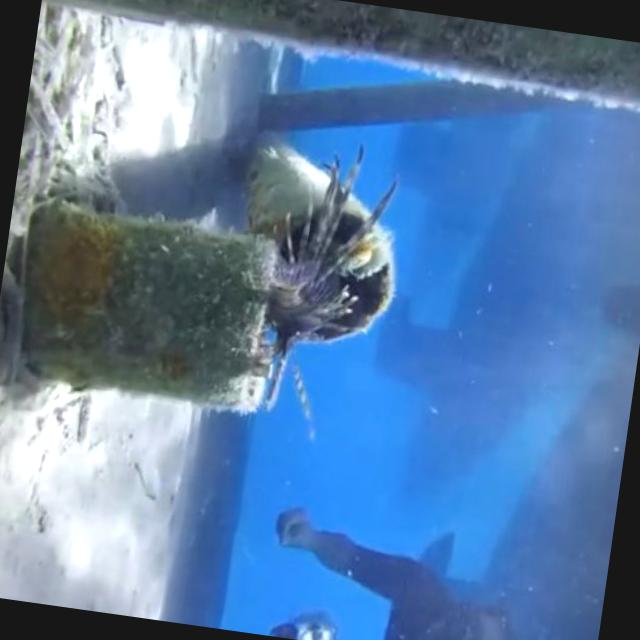Aslan Baligi: (244, 119, 404, 448)
